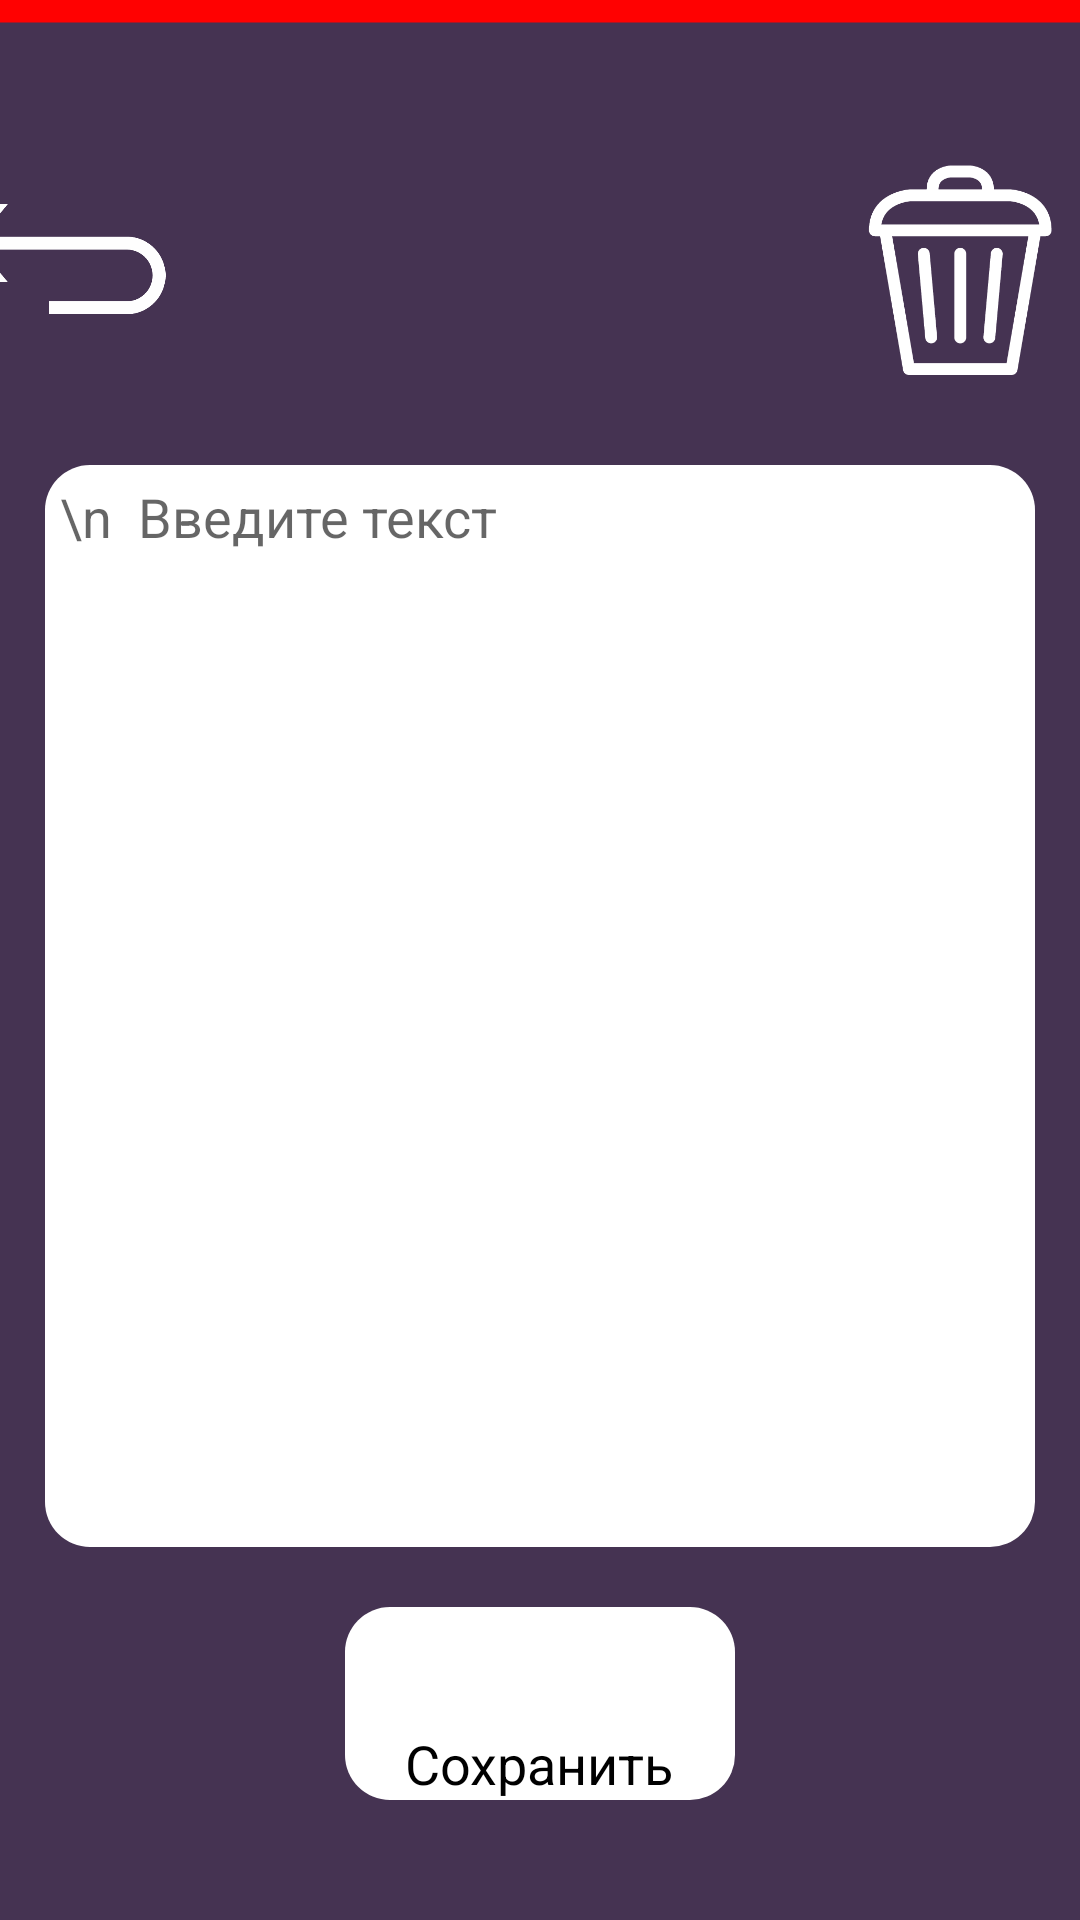

Where icons sit on this 1080px x 1920px app screen, as (x1,y1,x2,y2):
trashcan: (869,165,1052,375)
